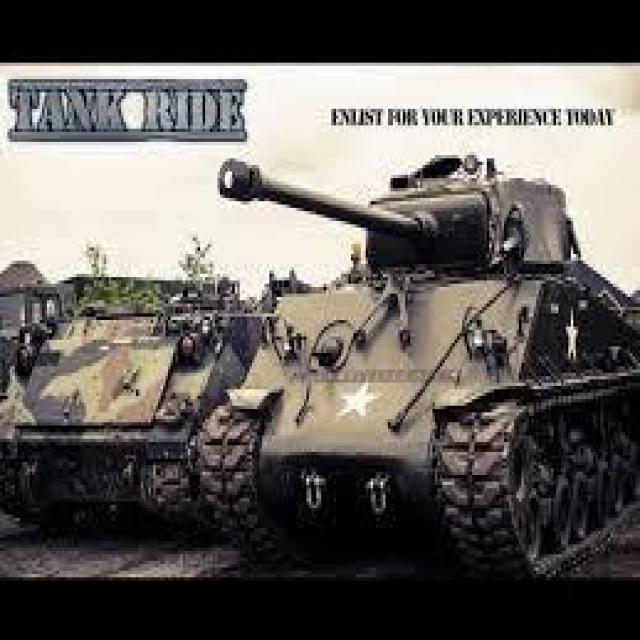Tanks: (193, 160, 635, 576), (5, 294, 250, 518)
